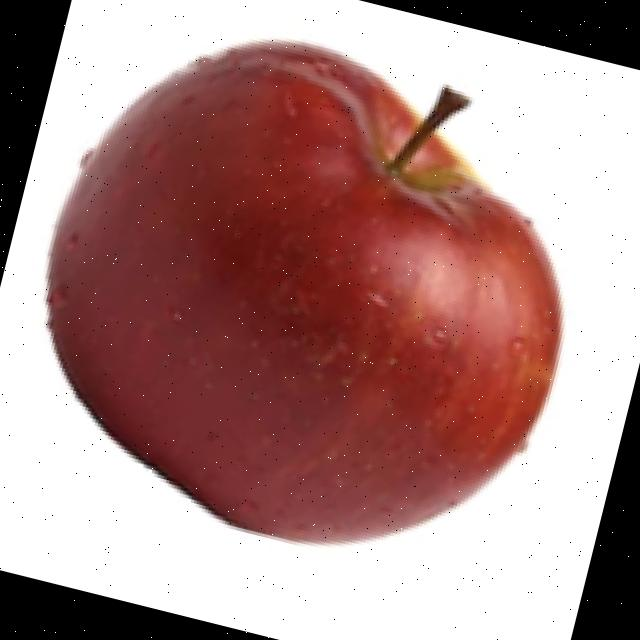apple: (41, 34, 569, 548)
